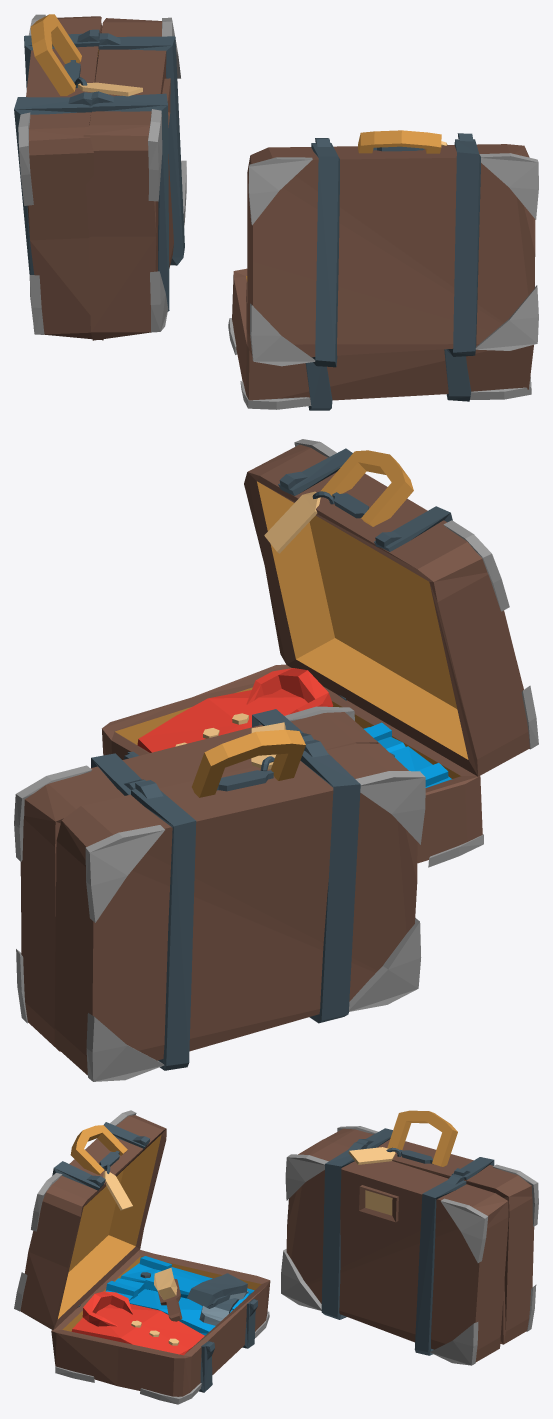
The model's file is Simple Suitcase 3D Model_r1.glb.
3 views of the same model, one above another, from view 1: azimuth 30°, elevation 25°; view 2: azimuth 150°, elevation 25°; view 3: azimuth 270°, elevation 25° (orthographic). The views are drawn at different scales.
Visible parts, largest first — view 1: group971960435, group881833563; view 2: group881833563, group971960435; view 3: group881833563, group971960435.
Part boxes in pixels (box(x1,y1,x2,y2)): group971960435: box(228, 130, 538, 410); group881833563: box(14, 14, 186, 340); group881833563: box(14, 706, 425, 1081); group971960435: box(102, 439, 538, 867); group881833563: box(281, 1110, 538, 1365); group971960435: box(14, 1110, 270, 1404).
Bounding box in the file's own units: 0.5992 × 0.4495 × 0.96.
